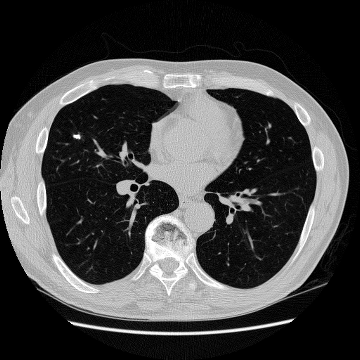nodule: (73, 132, 81, 140)
